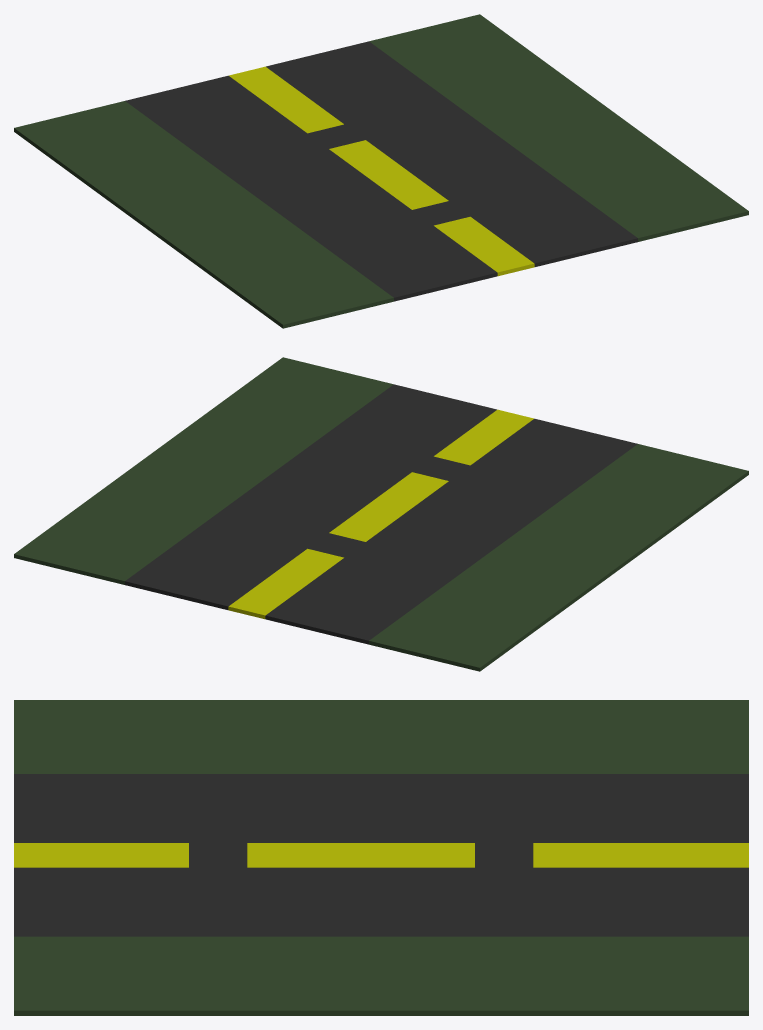
File: runway_tile.obj
3 renders of one model, top to bottom at view 1: azimuth 30°, elevation 25°; view 2: azimuth 150°, elevation 25°; view 3: azimuth 270°, elevation 25°, orthographic. The views are drawn at different scales.
Size of the model in its own units: 126 by 1 by 126.
